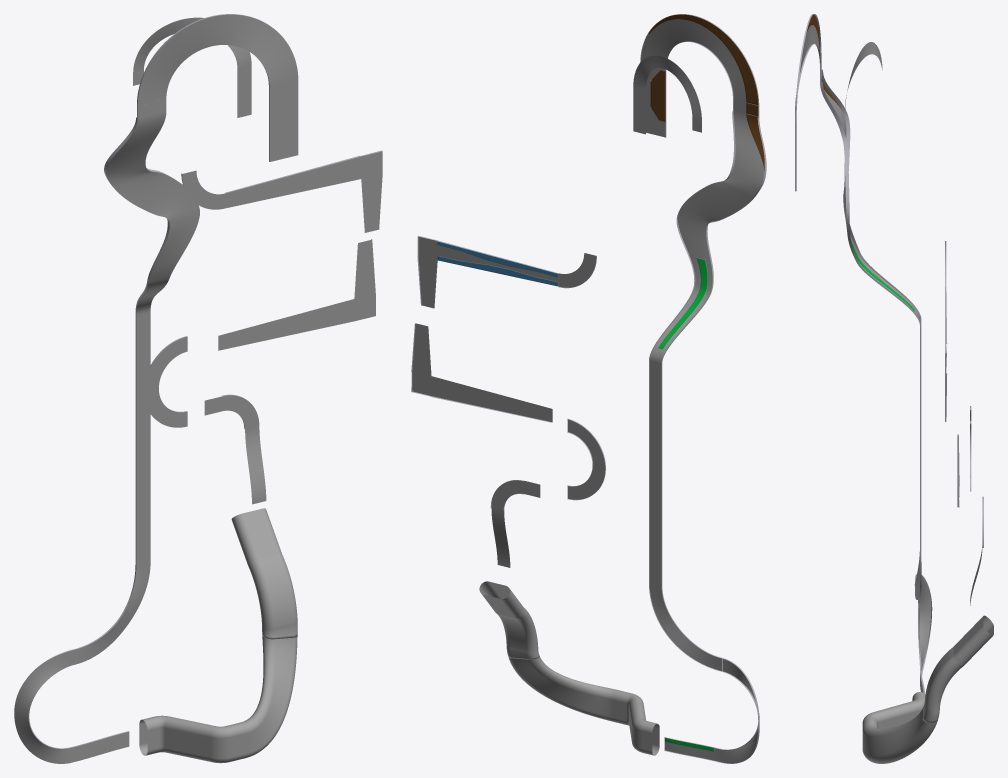
Rendered from track.obj.
3 views of the same model, side by side, from view 1: azimuth 30°, elevation 25°; view 2: azimuth 150°, elevation 25°; view 3: azimuth 270°, elevation 25° (orthographic). The views are drawn at different scales.
Parts seen in each view (by area): view 1: FZGXStream31.000_PreviewMesh, FZGXStream27.000_PreviewMesh, FZGXStream9.000_PreviewMesh, FZGXStream23.000_PreviewMesh, FZGXStream16.000_PreviewMesh, FZGXStream10.000_PreviewMesh, FZGXStream2.000_PreviewMesh, FZGXStream25.000_PreviewMesh, FZGXStream32.000_PreviewMesh, FZGXStream0.000_PreviewMesh, FZGXStream11.000_PreviewMesh, FZGXStream1.000_PreviewMesh (+12 smaller); view 2: FZGXStream31.000_PreviewMesh, FZGXStream27.000_PreviewMesh, FZGXStream9.000_PreviewMesh, FZGXStream16.000_PreviewMesh, FZGXStream23.000_PreviewMesh, FZGXStream1.000_PreviewMesh, FZGXStream0.000_PreviewMesh, FZGXStream32.000_PreviewMesh, FZGXStream15.000_PreviewMesh, FZGXStream25.000_PreviewMesh, FZGXStream28.000_PreviewMesh, FZGXStream2.000_PreviewMesh (+8 smaller); view 3: FZGXStream9.000_PreviewMesh, FZGXStream31.000_PreviewMesh, FZGXStream10.000_PreviewMesh, FZGXStream11.000_PreviewMesh, FZGXStream2.000_PreviewMesh, FZGXStream27.000_PreviewMesh, FZGXStream6.000_PreviewMesh, FZGXStream28.000_PreviewMesh.
Part boxes in pixels (x1=…): FZGXStream31.000_PreviewMesh: x1=104, y1=111, x2=199, y2=314; FZGXStream27.000_PreviewMesh: x1=137, y1=14, x2=298, y2=105; FZGXStream9.000_PreviewMesh: x1=241, y1=621, x2=297, y2=757; FZGXStream23.000_PreviewMesh: x1=225, y1=155, x2=361, y2=208; FZGXStream16.000_PreviewMesh: x1=218, y1=299, x2=354, y2=350; FZGXStream10.000_PreviewMesh: x1=248, y1=554, x2=297, y2=628; FZGXStream2.000_PreviewMesh: x1=14, y1=649, x2=74, y2=763; FZGXStream25.000_PreviewMesh: x1=269, y1=80, x2=298, y2=161; FZGXStream32.000_PreviewMesh: x1=135, y1=311, x2=150, y2=439; FZGXStream0.000_PreviewMesh: x1=135, y1=436, x2=150, y2=564; FZGXStream11.000_PreviewMesh: x1=231, y1=508, x2=282, y2=564; FZGXStream1.000_PreviewMesh: x1=74, y1=561, x2=150, y2=664; FZGXStream31.000_PreviewMesh: x1=649, y1=110, x2=766, y2=363; FZGXStream27.000_PreviewMesh: x1=640, y1=14, x2=759, y2=105; FZGXStream9.000_PreviewMesh: x1=506, y1=645, x2=617, y2=721; FZGXStream16.000_PreviewMesh: x1=431, y1=376, x2=552, y2=422; FZGXStream23.000_PreviewMesh: x1=437, y1=240, x2=558, y2=286; FZGXStream1.000_PreviewMesh: x1=649, y1=582, x2=721, y2=671; FZGXStream0.000_PreviewMesh: x1=649, y1=471, x2=662, y2=585; FZGXStream32.000_PreviewMesh: x1=649, y1=360, x2=662, y2=474; FZGXStream15.000_PreviewMesh: x1=567, y1=418, x2=605, y2=500; FZGXStream25.000_PreviewMesh: x1=646, y1=68, x2=666, y2=137; FZGXStream28.000_PreviewMesh: x1=633, y1=55, x2=701, y2=121; FZGXStream2.000_PreviewMesh: x1=719, y1=658, x2=759, y2=763; FZGXStream9.000_PreviewMesh: x1=862, y1=701, x2=939, y2=763; FZGXStream31.000_PreviewMesh: x1=820, y1=69, x2=921, y2=326; FZGXStream10.000_PreviewMesh: x1=925, y1=647, x2=963, y2=710; FZGXStream11.000_PreviewMesh: x1=953, y1=615, x2=993, y2=665; FZGXStream2.000_PreviewMesh: x1=915, y1=574, x2=932, y2=675; FZGXStream27.000_PreviewMesh: x1=795, y1=14, x2=821, y2=123; FZGXStream6.000_PreviewMesh: x1=875, y1=701, x2=917, y2=728; FZGXStream28.000_PreviewMesh: x1=845, y1=42, x2=882, y2=108.
Size of the model in its own units: 1575 by 3128 by 796.
